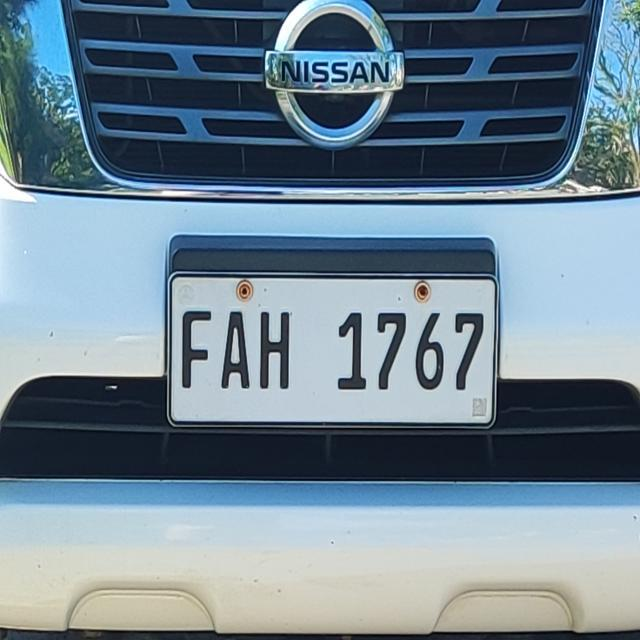LicensePlate: (155, 259, 514, 434)
